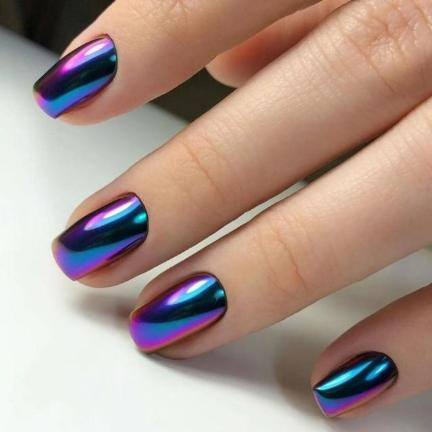Nail: (50, 192, 149, 281), (128, 273, 227, 354), (32, 36, 119, 119), (312, 351, 399, 418)
